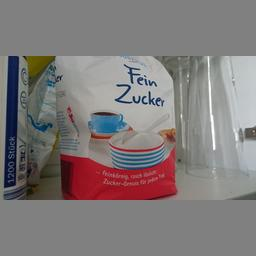sugar: (53, 56, 176, 198)
